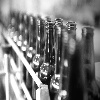beer: (41, 20, 57, 92)
